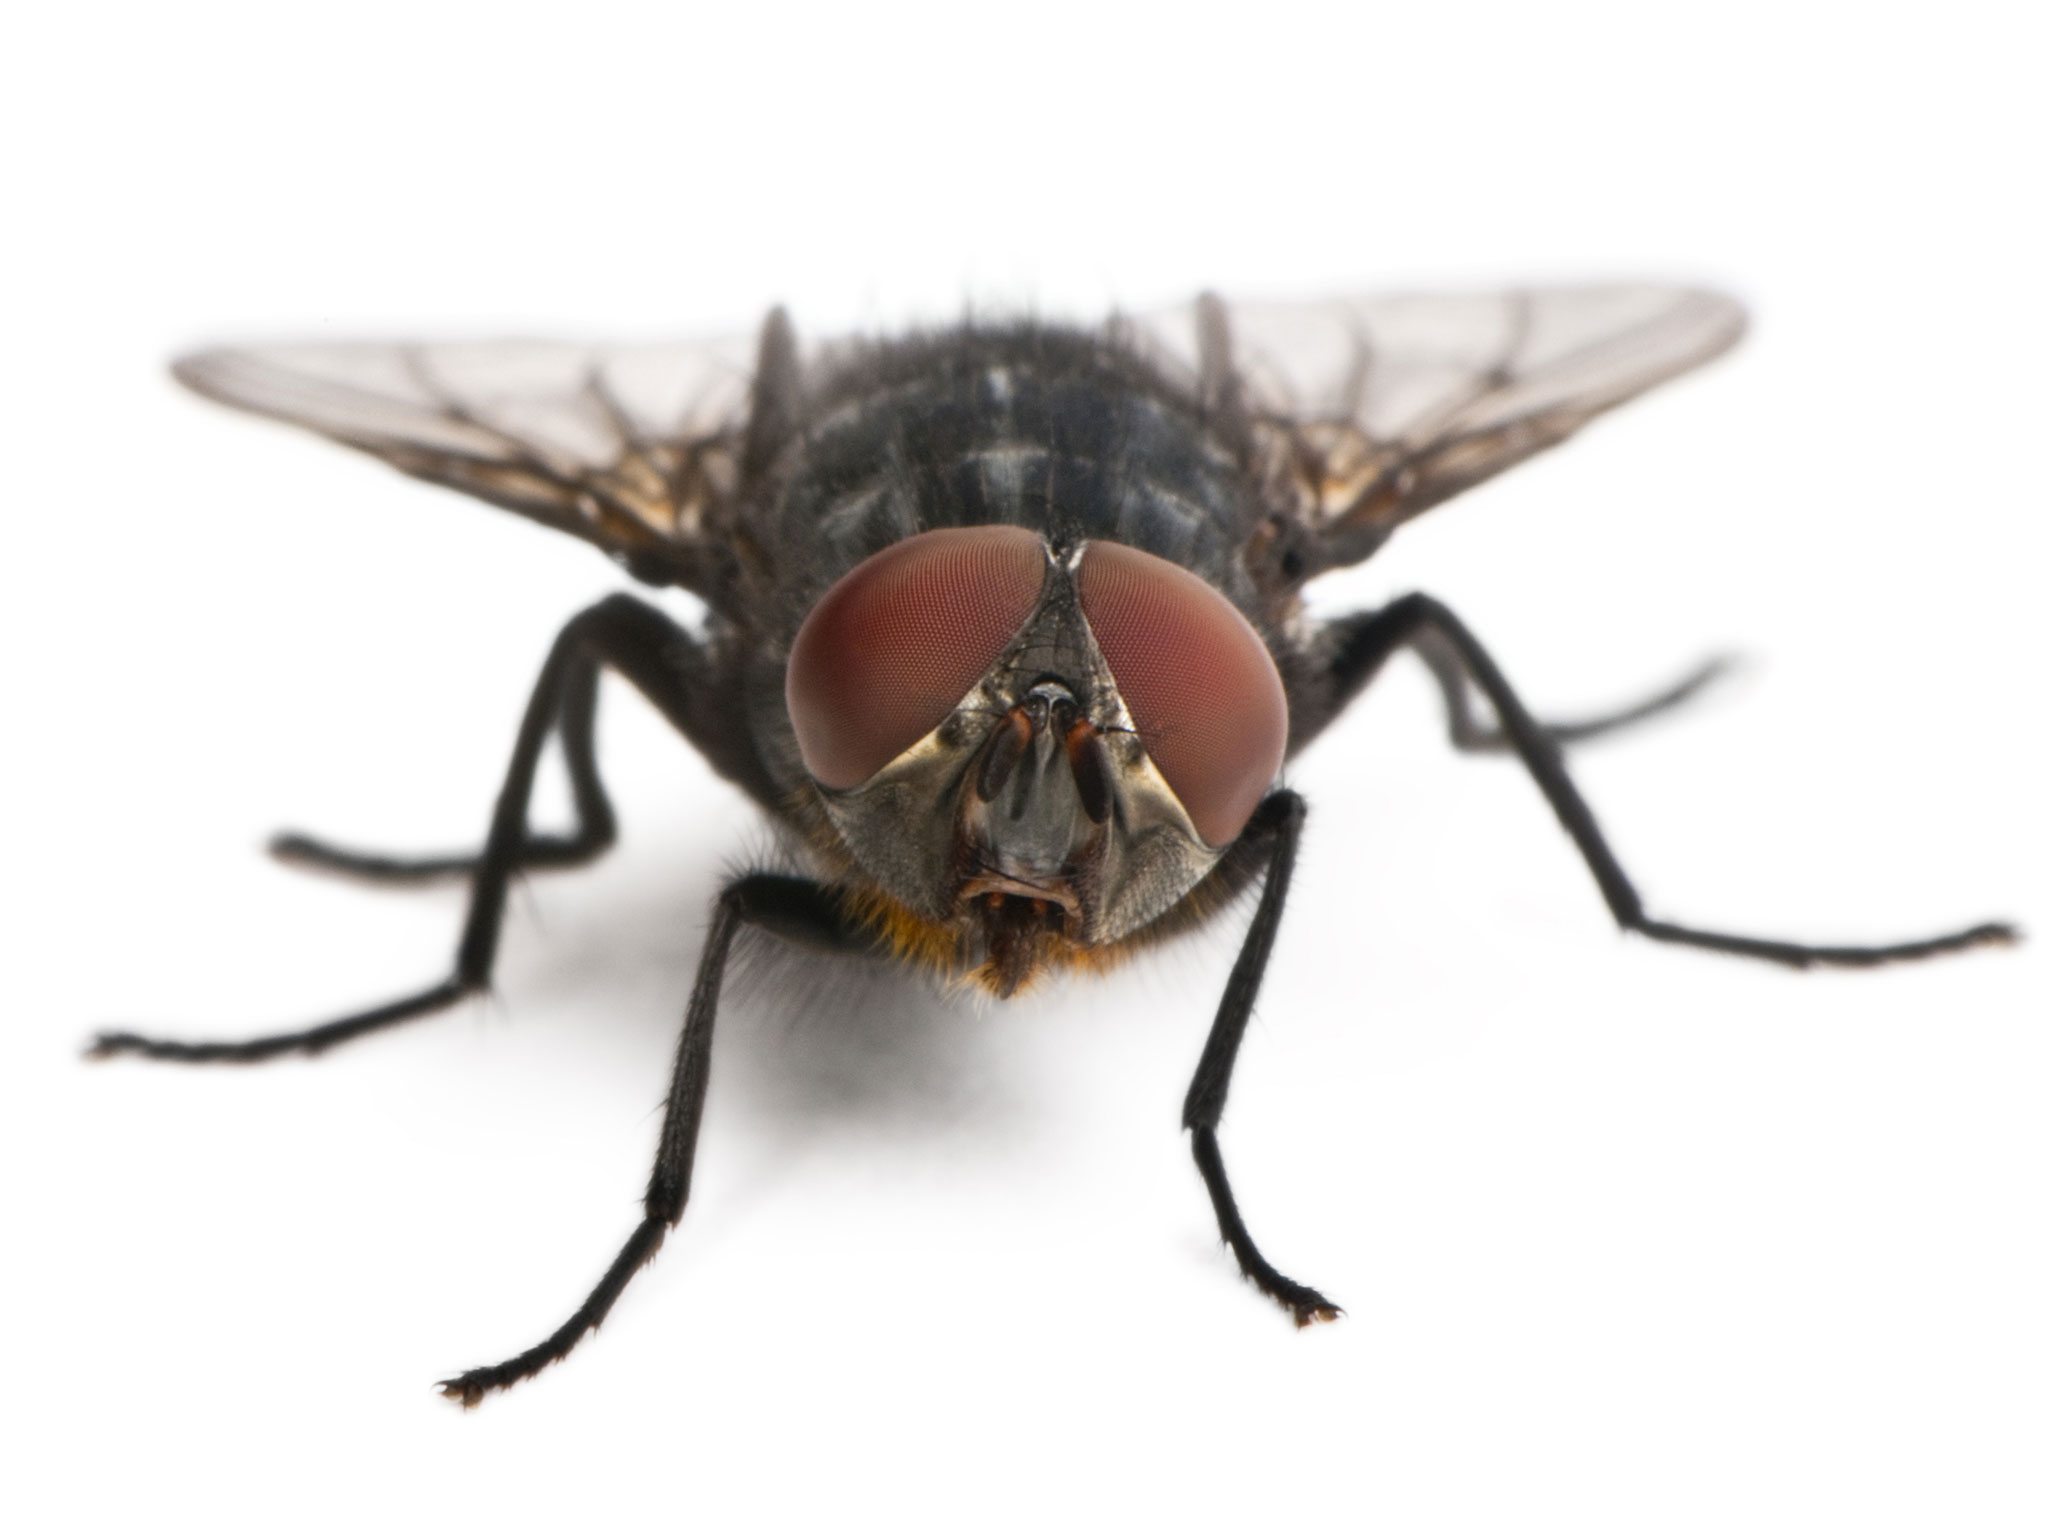fly: (66, 286, 2048, 1433)
